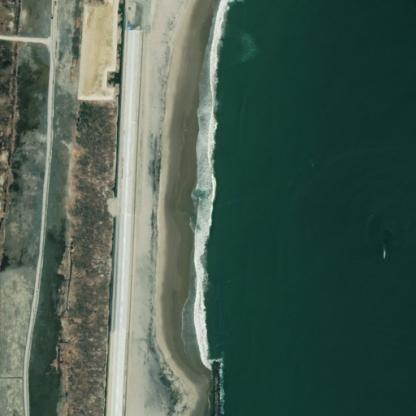ship: (376, 238, 392, 266)
